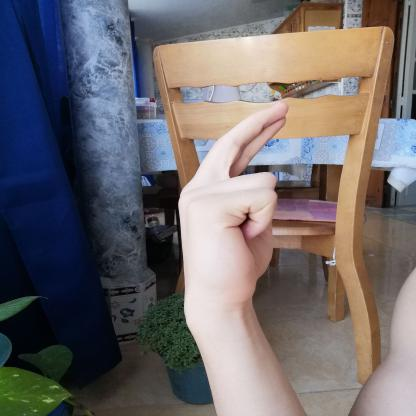ZAY: (166, 93, 298, 327)
